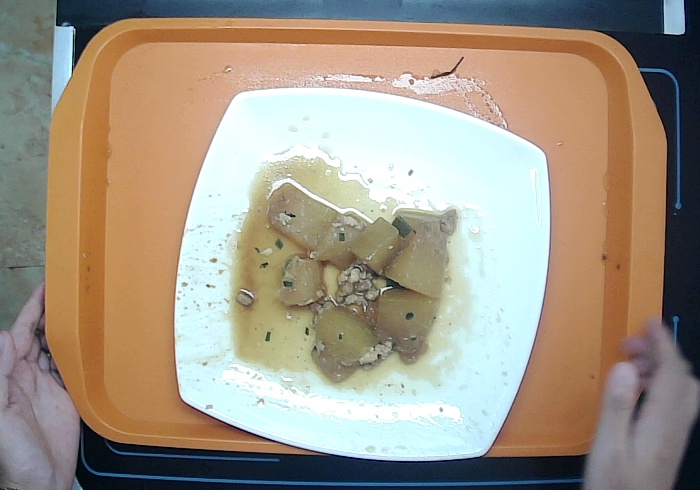ZNLD-Bai_Fang_Pan: (172, 87, 552, 463)
